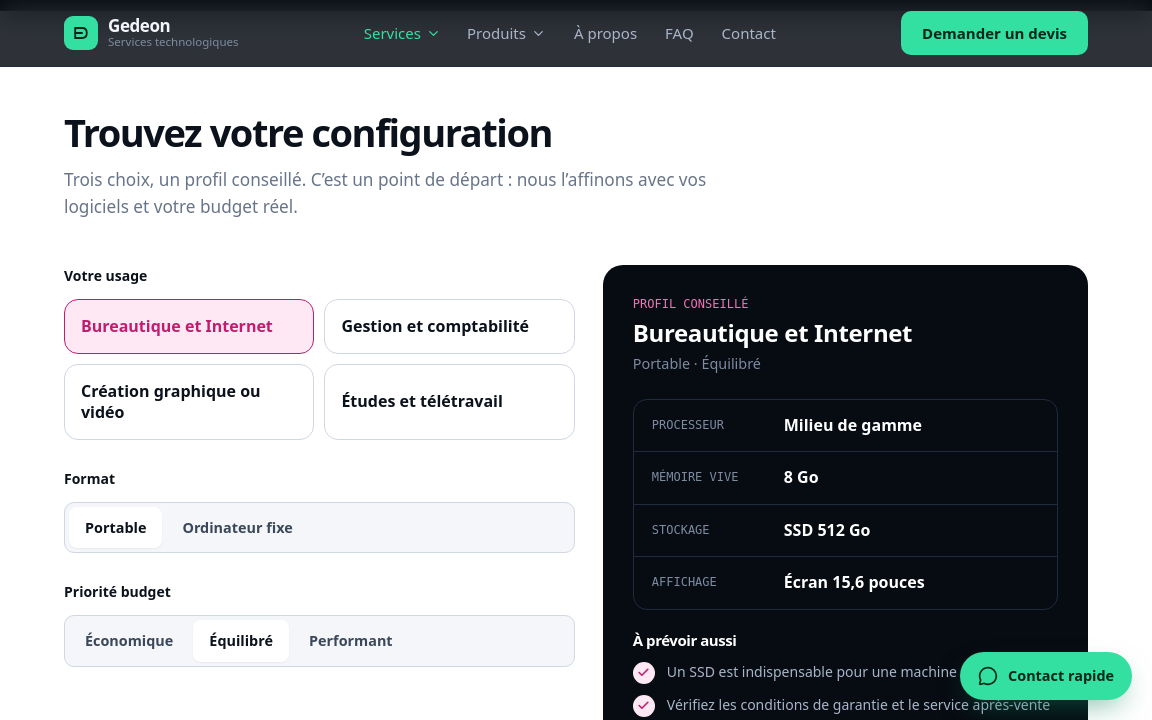
Test case: dedicated service pages › sales: the guide recommends a profile for the chosen usage
This screenshot has width=1152, height=720.
(page scrolled)
Click the button "Création graphique ou vidéo" at (189, 402), box [64,364,314,440]
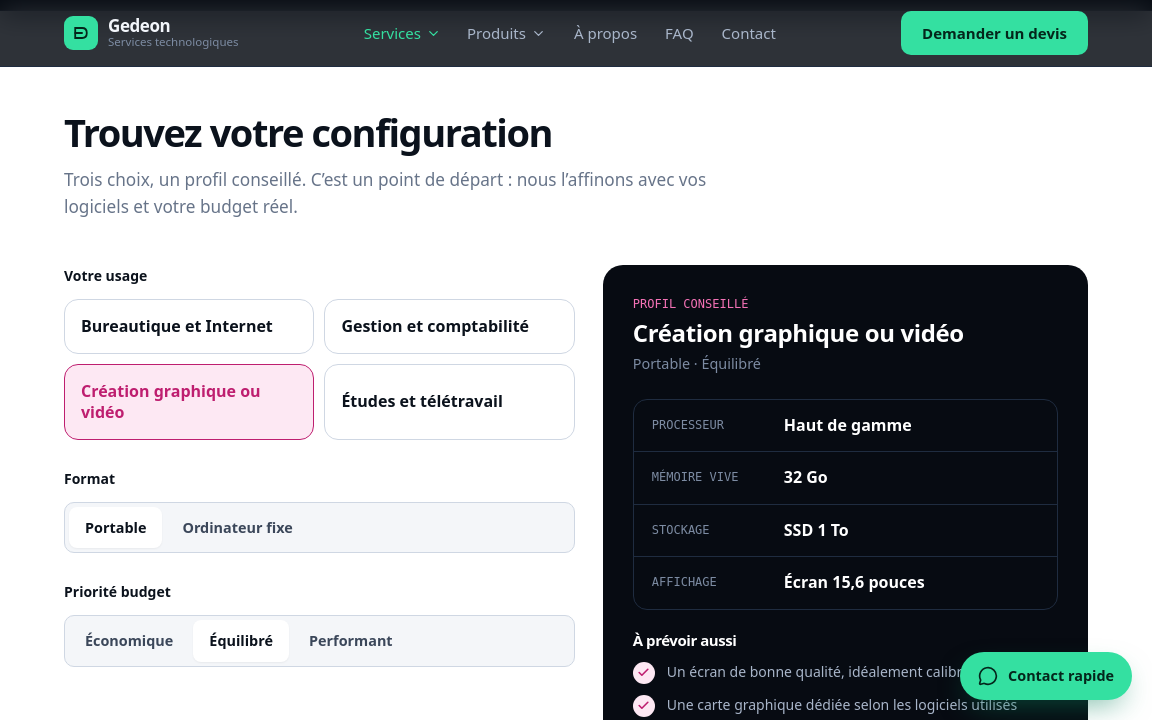
Now the list item "Une carte graphique dédiée selon les logiciels utilisés" is shown, box [633,694,1058,717]
